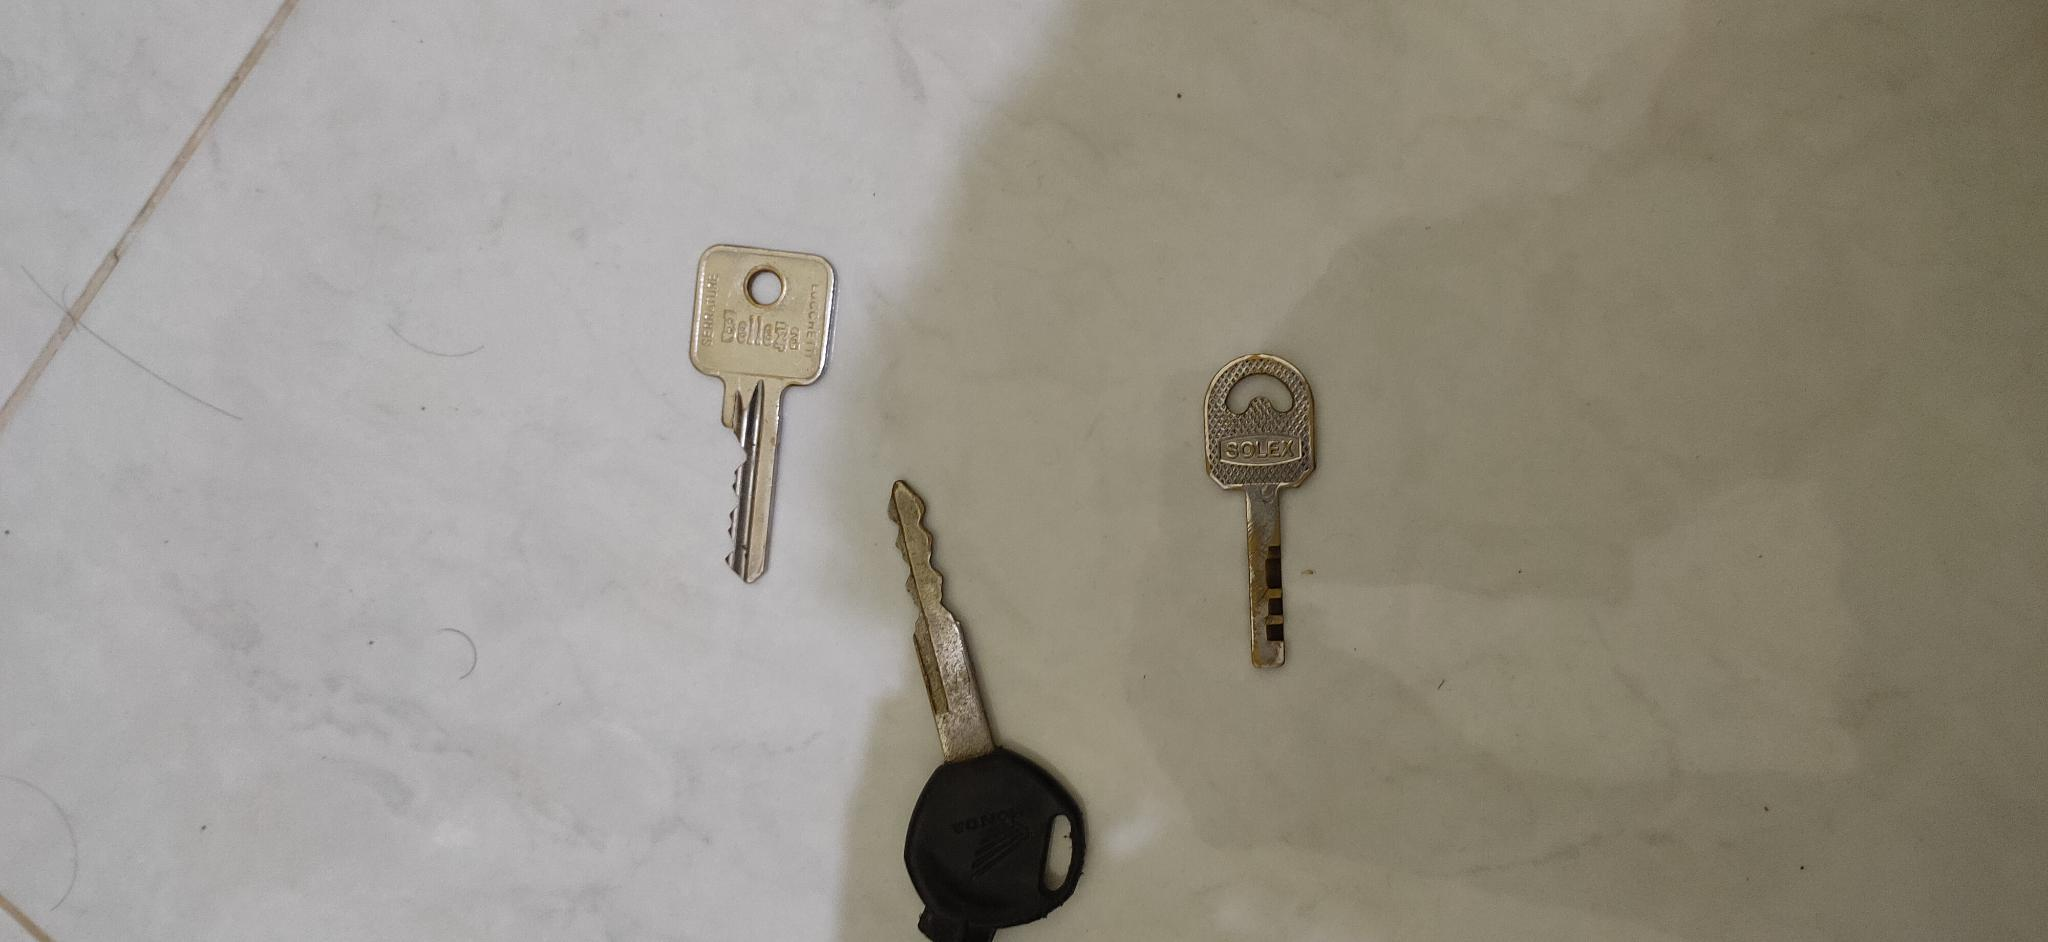keys: (875, 466, 1096, 935), (688, 231, 842, 596), (1196, 344, 1351, 687)
